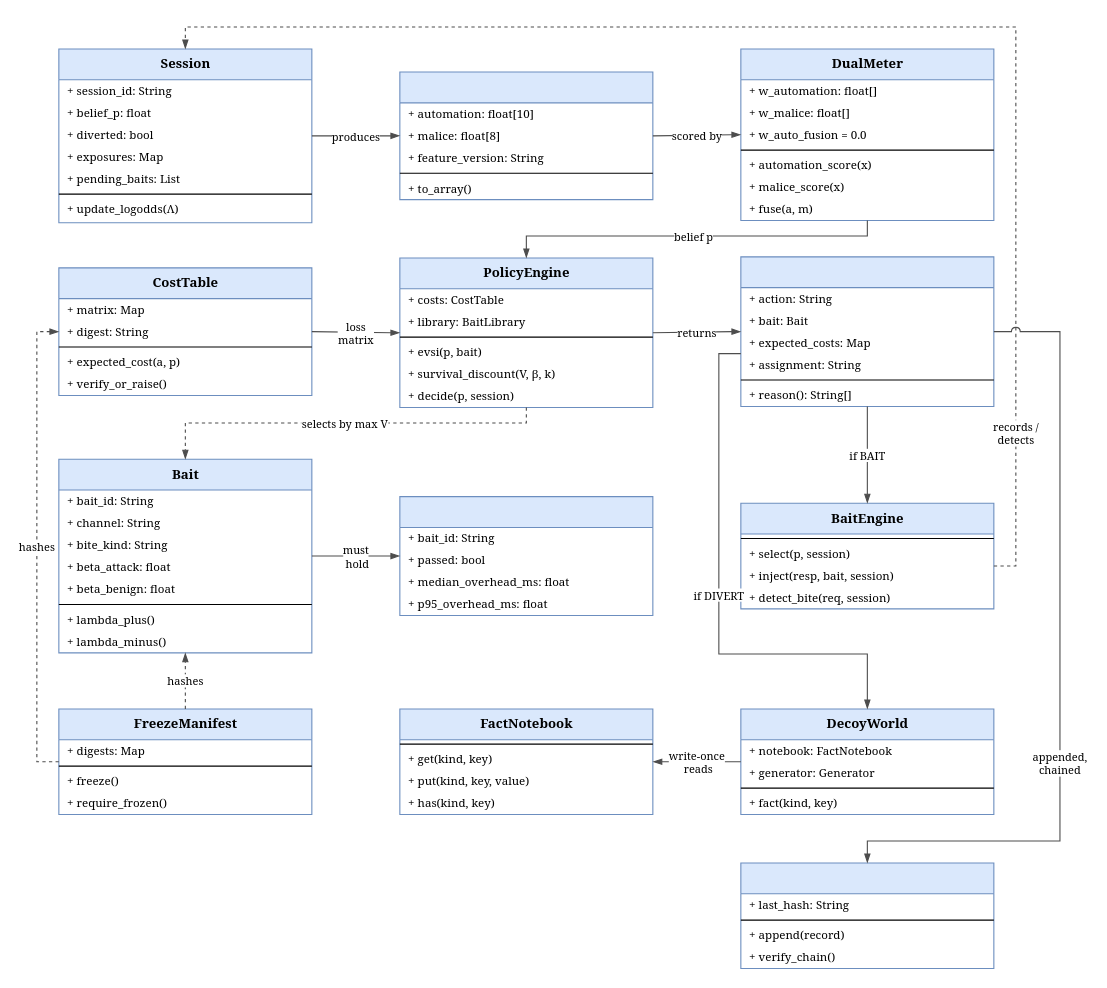
This 1107x988 diagram has some shape labels left out. The shapes that lost their labels are listed below. From the top down, each one's box as (x1, y1, x2, y2) in pixels, then its label:
(399, 71, 653, 200): FeatureVector
(740, 256, 994, 406): Decision
(399, 496, 653, 615): Certificate
(740, 862, 994, 969): LogStore
